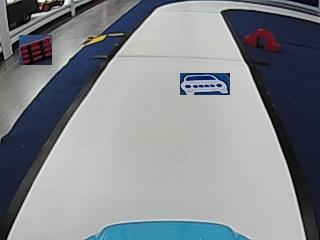bridge: (245, 28, 279, 51)
